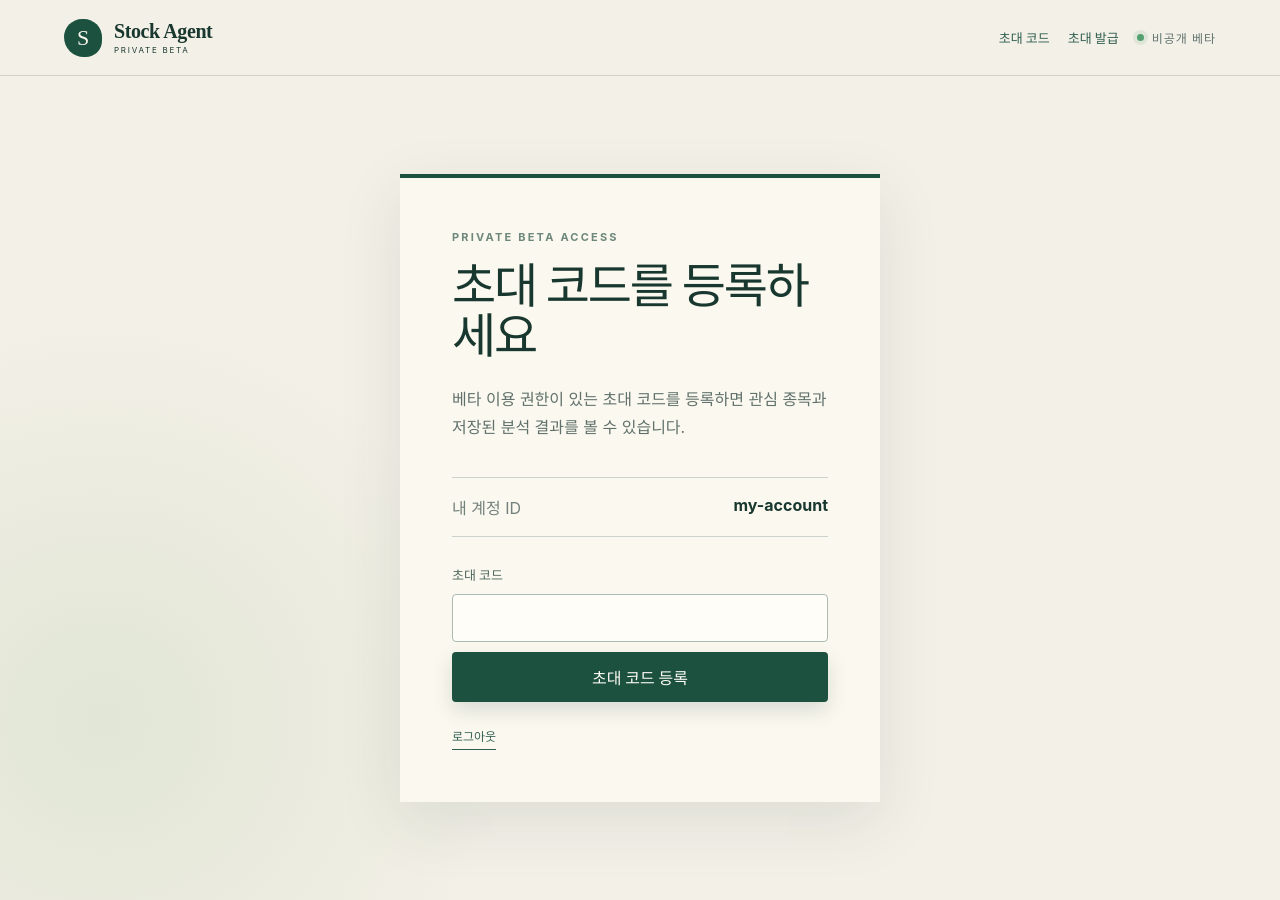
Test: beta web routes › keeps operator issuance reachable while the operator still needs a beta grant
What coordinates should you click on to do the following:
click the link "초대 발급"
I would click on:
 (1093, 38)
Its box is [1068, 28, 1119, 47].
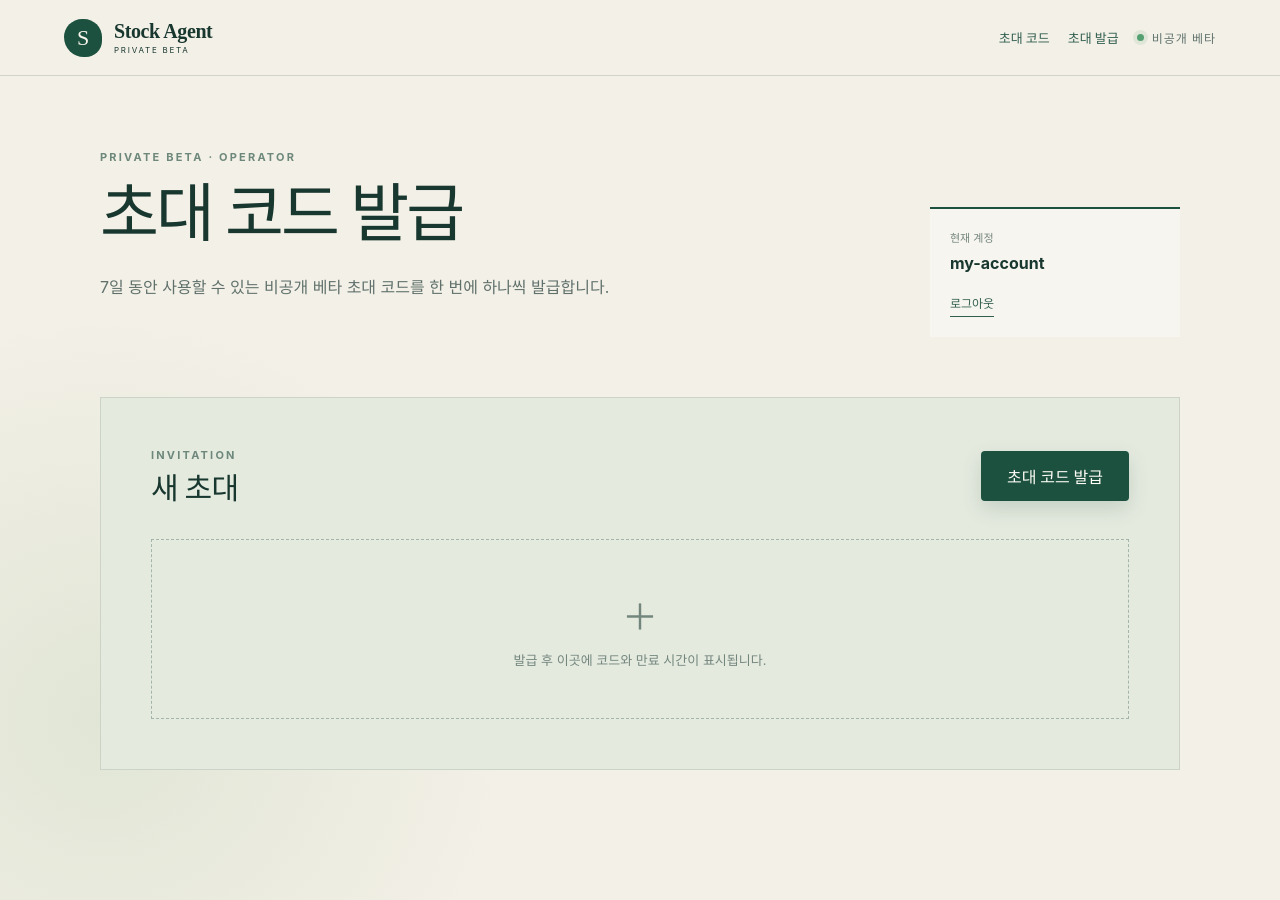
Now the button "초대 코드 발급" is shown, box [981, 451, 1129, 501]
